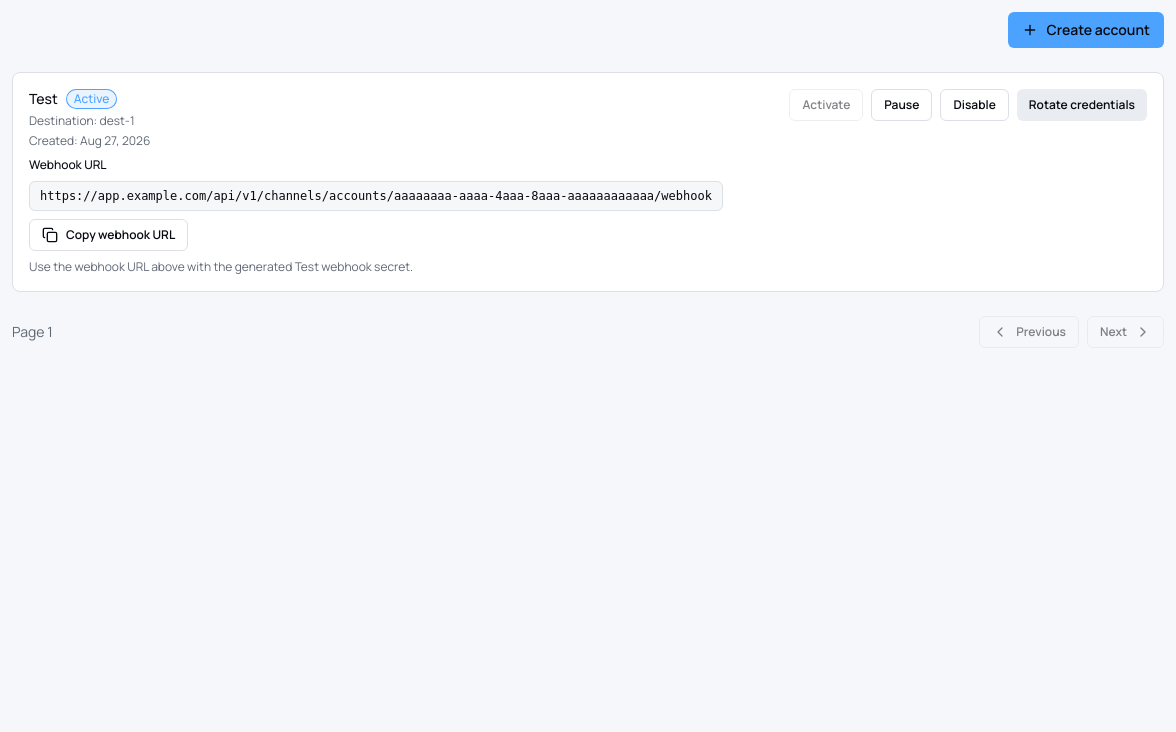
Test case: ChannelAccountsClient › creates a Test account with the existing payload and shows the one-time secret
Expected: the text "Test" is shown, x1=29 y1=89 x2=58 y2=109
Click the button "Create account" at (1086, 30), box x1=1008 y1=12 x2=1164 y2=48
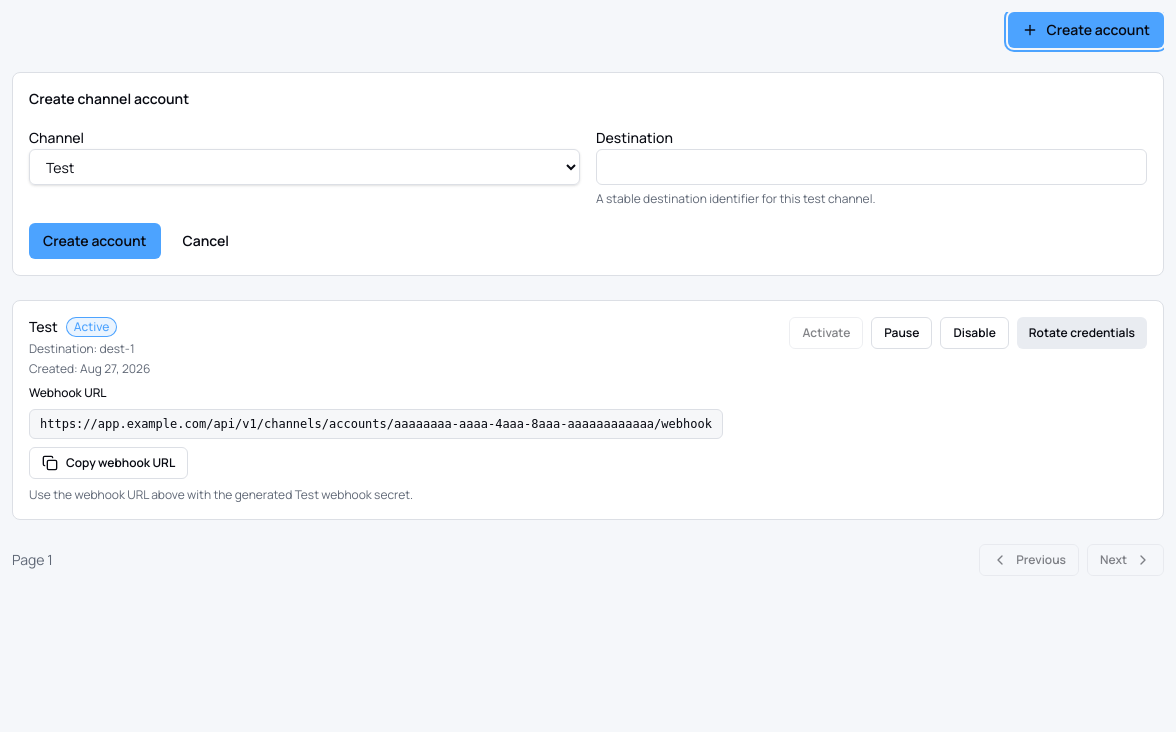
Type "dest-1" into the field labelled "Destination" at (872, 167), box x1=596 y1=149 x2=1147 y2=185
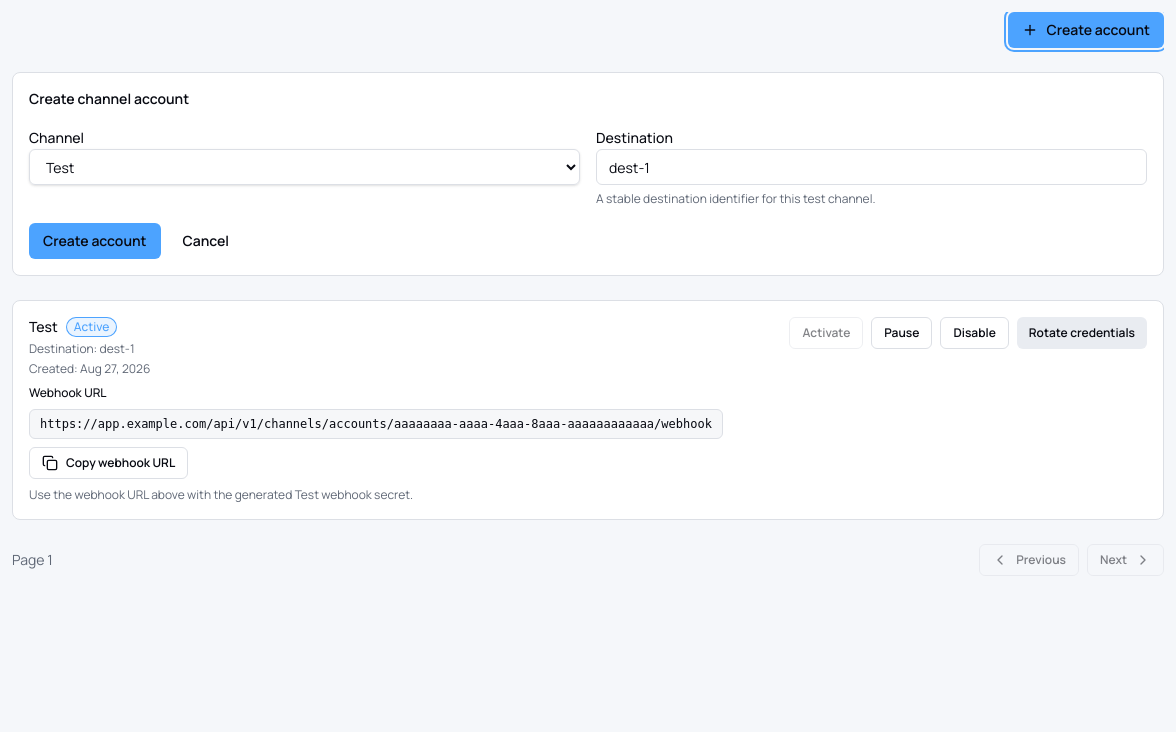
Click the button "Create account" below "Create channel account" at (95, 241), box x1=29 y1=223 x2=160 y2=259
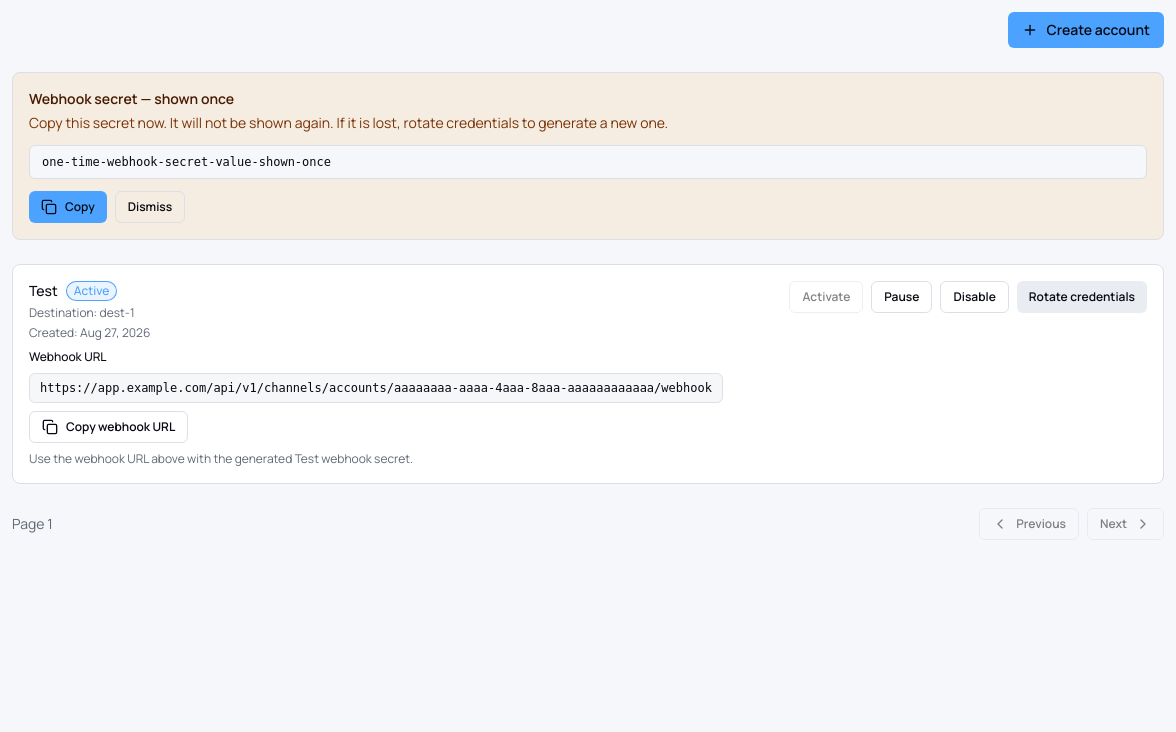
Now the element with test id "one-time-secret-panel" is shown, box x1=12 y1=72 x2=1164 y2=240
Now the text with test id "one-time-secret-value" reads "one-time-webhook-secret-value-shown-once", box x1=42 y1=155 x2=331 y2=169
Now the heading "Webhook secret — shown once" is shown, box x1=29 y1=89 x2=234 y2=108
